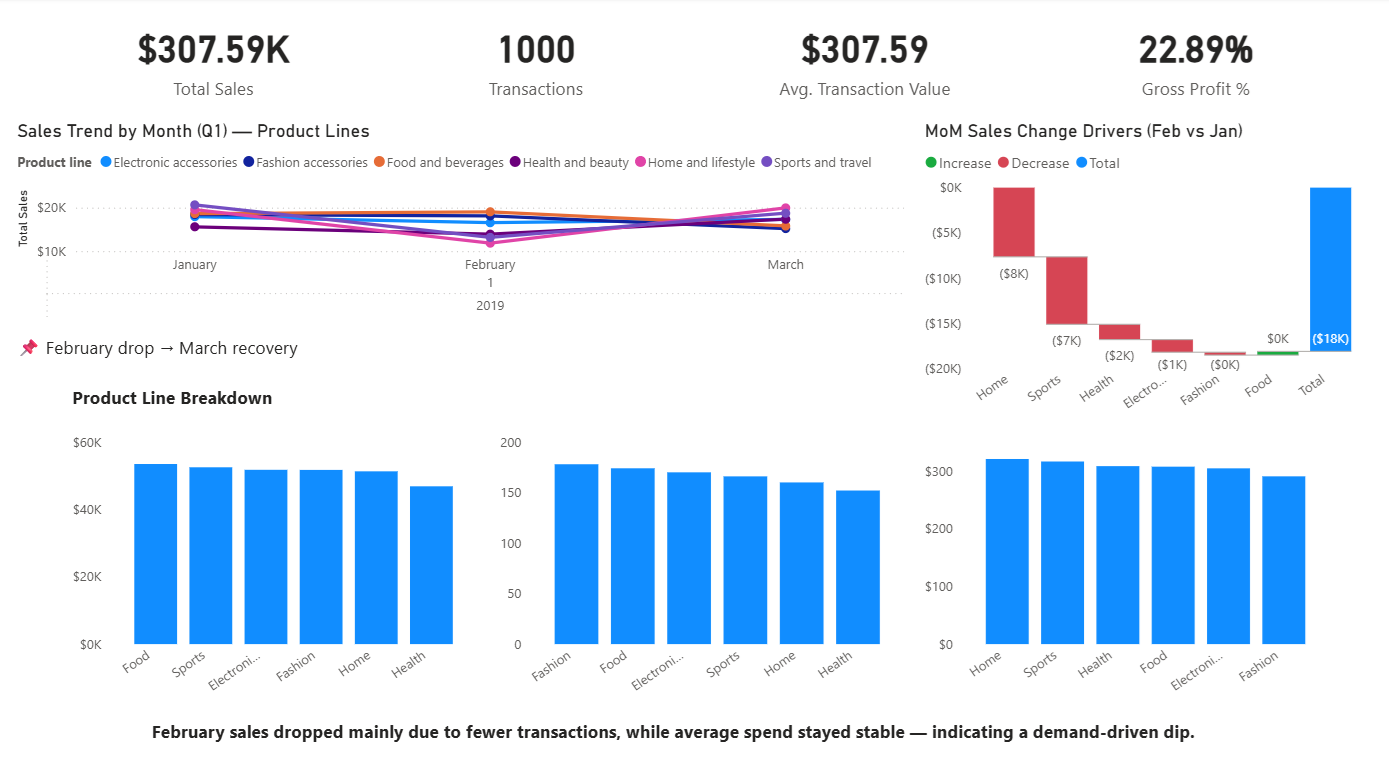

This screenshot's page, from the dashboard's own definition file:
{"tool":"powerbi","page":{"name":" Product Line","canvas":[1280,720],"ordinal":1},"visuals":[{"type":"card","fields":{"Values":["_Measures (2).Total Sales"]},"box":[62.9,0,270,112.9],"z":0},{"type":"card","title":"Transactions","fields":{"Values":["_Measures (2).Total Transaction"]},"box":[359,0,270,112.9],"z":1000},{"type":"card","fields":{"Values":["_Measure.Average Transaction Value"]},"box":[655.2,0,284.3,112.9],"z":2000},{"type":"card","fields":{"Values":["_Measure.Gross Profit %"]},"box":[965.7,0,270,112.9],"z":3000},{"type":"clusteredColumnChart","fields":{"Y":["_Measure.Total Sales"],"Category":["DimProduct.Product short"]},"box":[62.9,394.7,381.4,255.7],"z":4000},{"type":"clusteredColumnChart","fields":{"Category":["DimProduct.Product short"],"Y":["_Measure.Total Transaction"]},"box":[455.7,394.7,381.4,255.7],"z":5000},{"type":"lineChart","title":"Sales Trend by Month (Q1) — Product Lines","fields":{"Category":["DimDate.Date Hierarchy.Year","DimDate.Date Hierarchy.Quarter","DimDate.Date Hierarchy.Month Name"],"Series":["DimProduct.Product line"],"Y":["_Measure.Total Sales"]},"box":[12.5,112.5,825,193.2],"z":6000},{"type":"clusteredColumnChart","fields":{"Category":["DimProduct.Product short"],"Y":["_Measure.Average Transaction Value"]},"box":[847.1,394.7,381.4,255.7],"z":7000},{"type":"textbox","box":[12.9,305.7,642.9,38.6],"z":8000},{"type":"textbox","box":[12.9,658.6,1215.7,47.1],"z":9000},{"type":"textbox","box":[62.9,351.4,1165.7,42.9],"z":10000},{"type":"waterfallChart","title":"MoM Sales Change Drivers (Feb vs Jan)","fields":{"Category":["DimProduct.Product short"],"Y":["_Measure.Sales MoM Change $"]},"box":[846.2,112.5,422.5,281.2],"z":11000}]}

Visuals, with their boxes in screenshot pixels (x1, y1, x2, y2), scaled from the page's 1280x720 canvas onto the 1389x777 screenshot:
card - _Measures (2).Total Sales: bbox=[68, 0, 361, 122]
"Transactions" card: bbox=[390, 0, 683, 122]
card - _Measure.Average Transaction Value: bbox=[711, 0, 1020, 122]
card - _Measure.Gross Profit %: bbox=[1048, 0, 1341, 122]
clusteredColumnChart - _Measure.Total Sales x DimProduct.Product short: bbox=[68, 426, 482, 702]
clusteredColumnChart - DimProduct.Product short x _Measure.Total Transaction: bbox=[495, 426, 908, 702]
"Sales Trend by Month (Q1) — Product Lines" lineChart: bbox=[14, 121, 909, 330]
clusteredColumnChart - DimProduct.Product short x _Measure.Average Transaction Value: bbox=[919, 426, 1333, 702]
textbox: bbox=[14, 330, 712, 372]
textbox: bbox=[14, 711, 1333, 762]
textbox: bbox=[68, 379, 1333, 426]
"MoM Sales Change Drivers (Feb vs Jan)" waterfallChart: bbox=[918, 121, 1377, 425]
